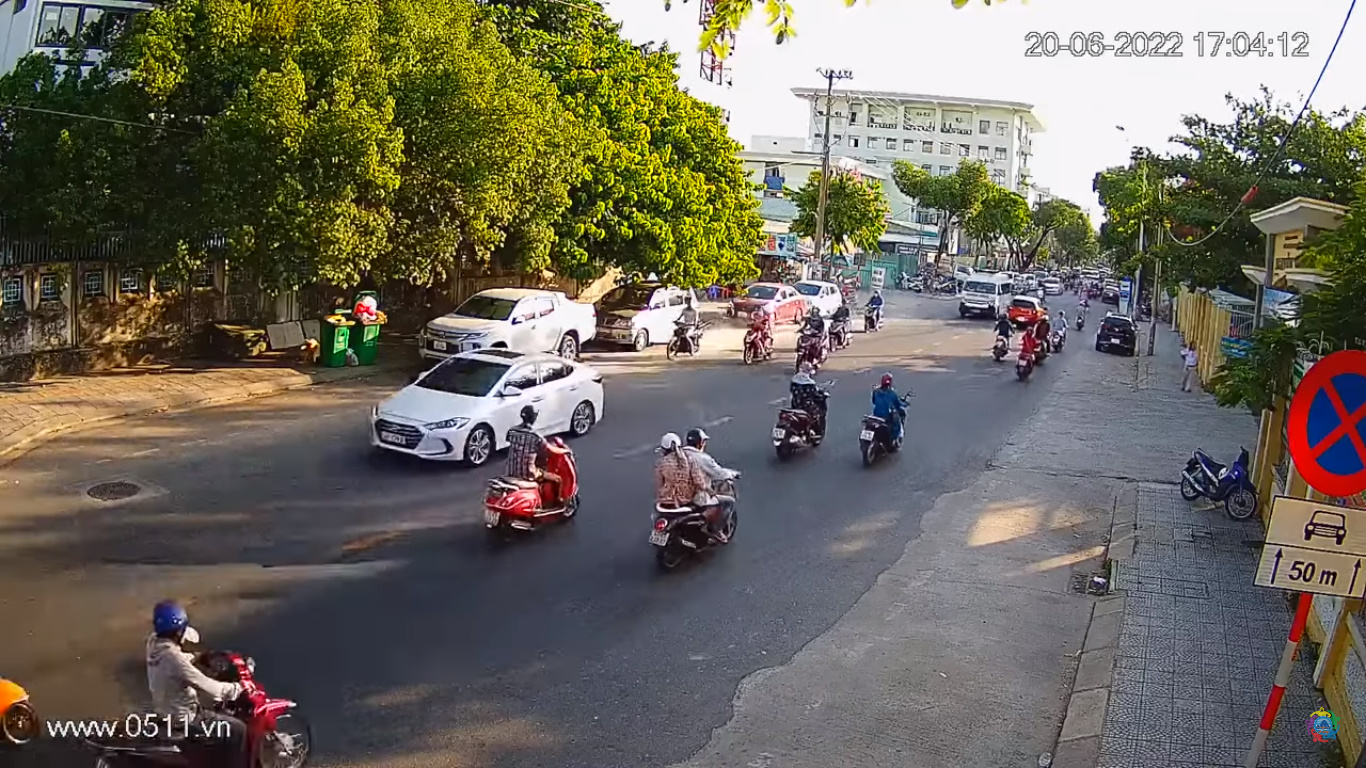car: (374, 350, 608, 469)
